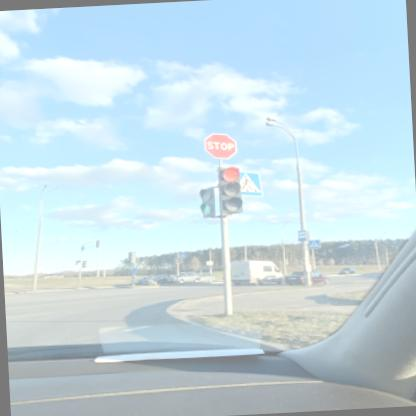crosswalk: (236, 170, 260, 198), (307, 239, 320, 249), (176, 251, 184, 258)
trafficlight: (214, 164, 240, 212), (197, 185, 214, 216), (119, 248, 135, 266), (92, 238, 98, 247), (80, 258, 86, 266)
